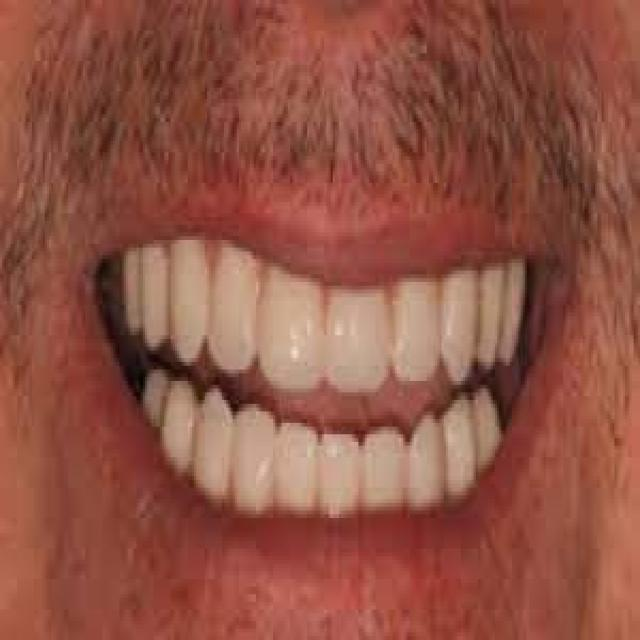tooth: (258, 251, 327, 385), (207, 236, 260, 377), (328, 286, 392, 396), (166, 228, 212, 366), (394, 270, 442, 392), (233, 389, 273, 514), (196, 377, 233, 503), (273, 408, 318, 510), (360, 412, 408, 506), (444, 263, 478, 388), (407, 404, 444, 510), (444, 389, 480, 495), (320, 419, 361, 511), (141, 232, 168, 358), (164, 362, 194, 472), (480, 259, 503, 377), (476, 377, 501, 469), (506, 248, 524, 370)
